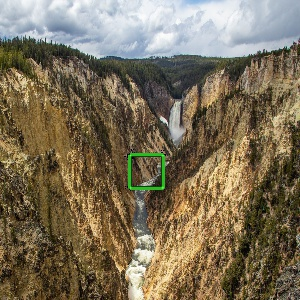square: (126, 151, 166, 192)
